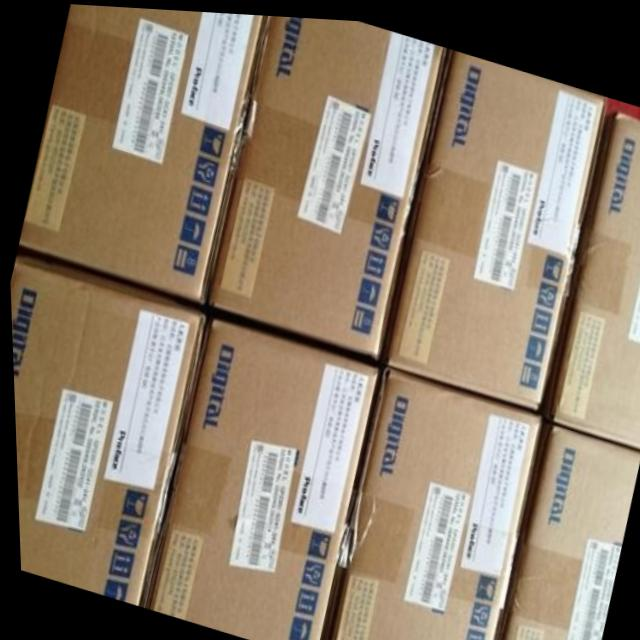box: (202, 12, 450, 355), (378, 45, 605, 407), (140, 315, 378, 640), (16, 3, 265, 302), (8, 256, 205, 605), (322, 364, 542, 640), (537, 105, 640, 444), (494, 416, 638, 640)
